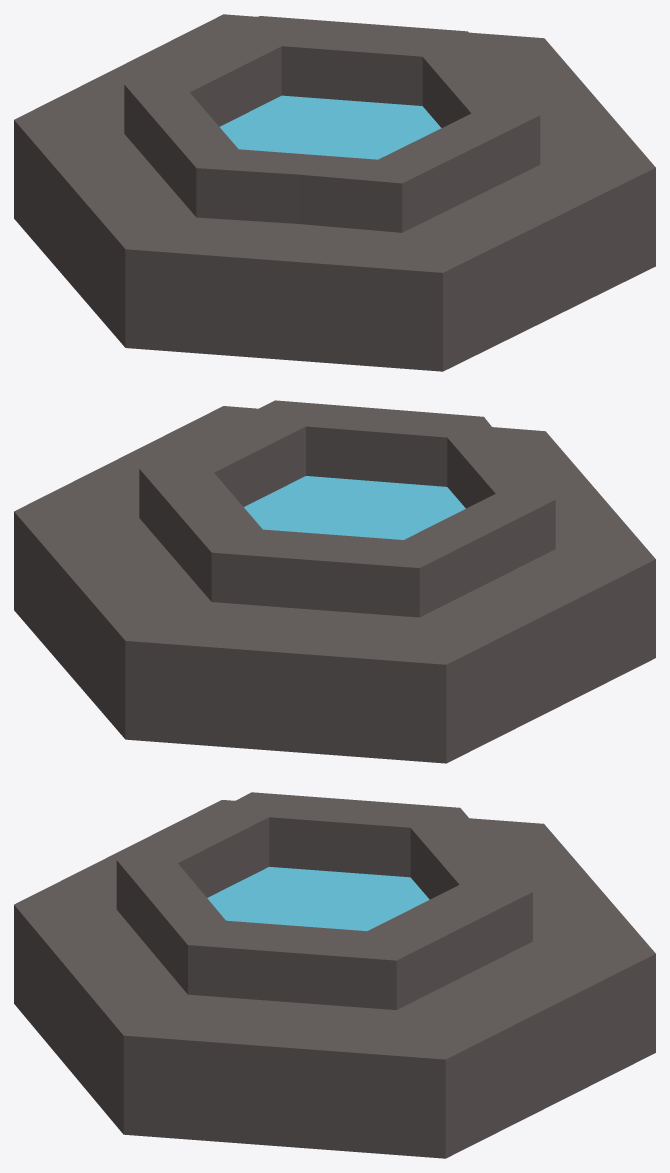
The model's file is SchlüsselPodest.fbx.
3 renders of one model, top to bottom at view 1: azimuth 30°, elevation 25°; view 2: azimuth 150°, elevation 25°; view 3: azimuth 270°, elevation 25°, orthographic.
Parts seen in each view (by area): view 1: BP.001; view 2: BP.001; view 3: BP.001.
Part boxes in pixels (bbox=[...]): BP.001: bbox=[14, 14, 655, 371]; BP.001: bbox=[14, 400, 655, 763]; BP.001: bbox=[14, 792, 655, 1158].
Size of the model in its own units: 199 by 53.01 by 207.
